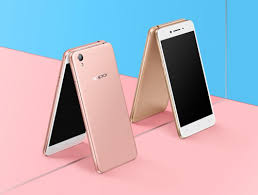oppo: (68, 39, 140, 175), (156, 19, 216, 139)
